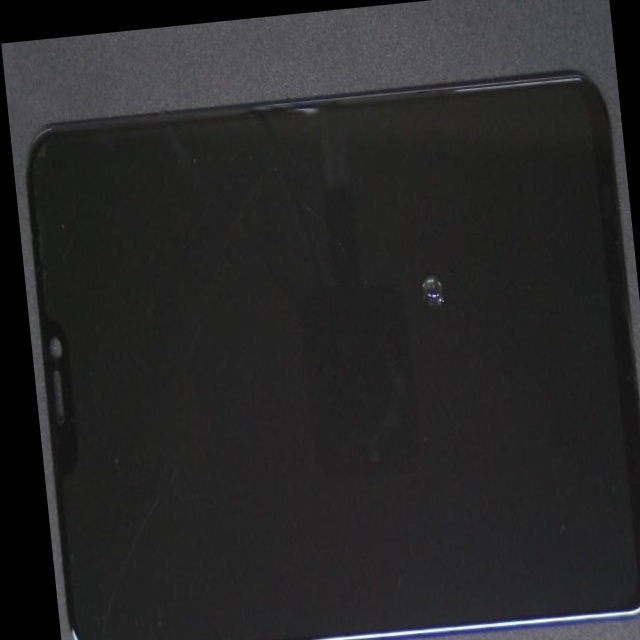oil: (194, 100, 634, 469)
